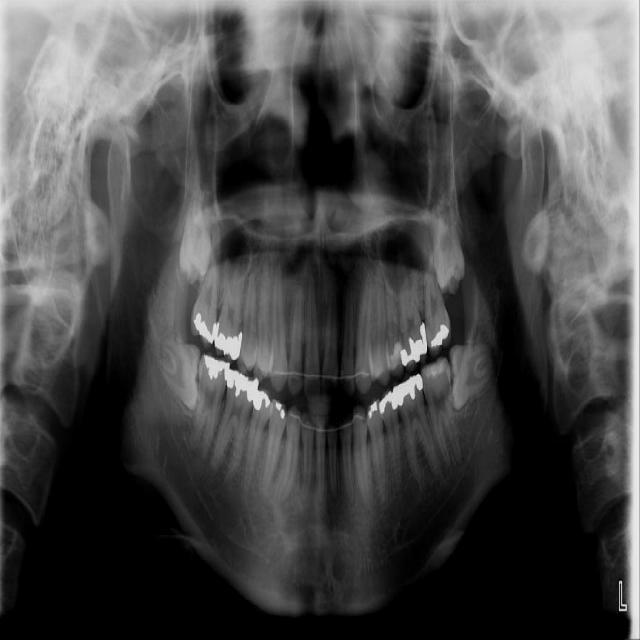Filling: (399, 321, 427, 371), (227, 368, 259, 405), (392, 374, 424, 406), (215, 323, 243, 358), (201, 354, 231, 384), (192, 310, 218, 344), (386, 332, 404, 378), (419, 357, 451, 381), (430, 321, 451, 350), (379, 392, 399, 417), (253, 388, 272, 414), (271, 402, 288, 419), (367, 400, 381, 419)
impacted tooth: (175, 177, 210, 280), (152, 337, 200, 409), (450, 344, 498, 410), (432, 198, 465, 289)
